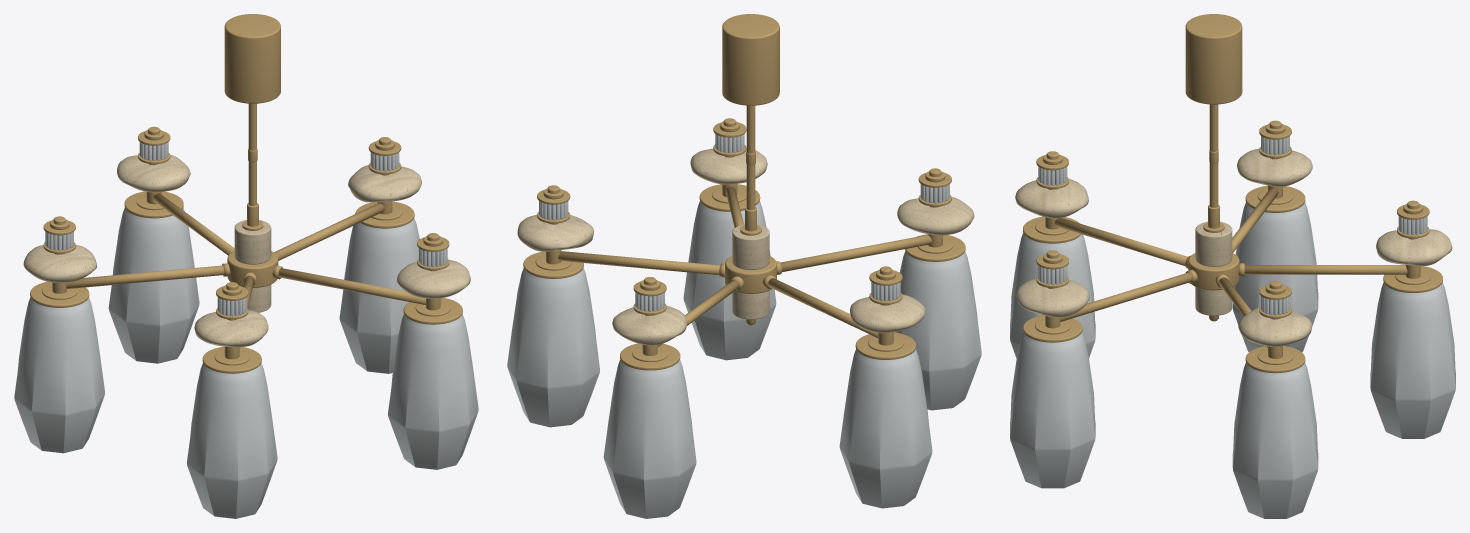
The picture shows the model from 3 angles, left to right: view 1: azimuth 30°, elevation 25°; view 2: azimuth 150°, elevation 25°; view 3: azimuth 270°, elevation 25°; orthographic projection. The views are drawn at different scales.
Visible parts, largest first — view 1: bulb0_glass, brass, travertine; view 2: bulb0_glass, brass, travertine; view 3: bulb0_glass, brass, travertine.
Boxes of the visible parts, bbox=[...] form: bulb0_glass: bbox=[14, 142, 478, 518]; brass: bbox=[30, 14, 462, 373]; travertine: bbox=[23, 154, 470, 347]; bulb0_glass: bbox=[507, 134, 981, 518]; brass: bbox=[523, 14, 965, 370]; travertine: bbox=[517, 147, 974, 345]; bulb0_glass: bbox=[1010, 136, 1455, 518]; brass: bbox=[1023, 14, 1442, 373]; travertine: bbox=[1015, 148, 1452, 346].
Size of the model in its own units: 0.6527 by 0.625 by 0.6266.
Materials: 5 (1 with a texture image).
